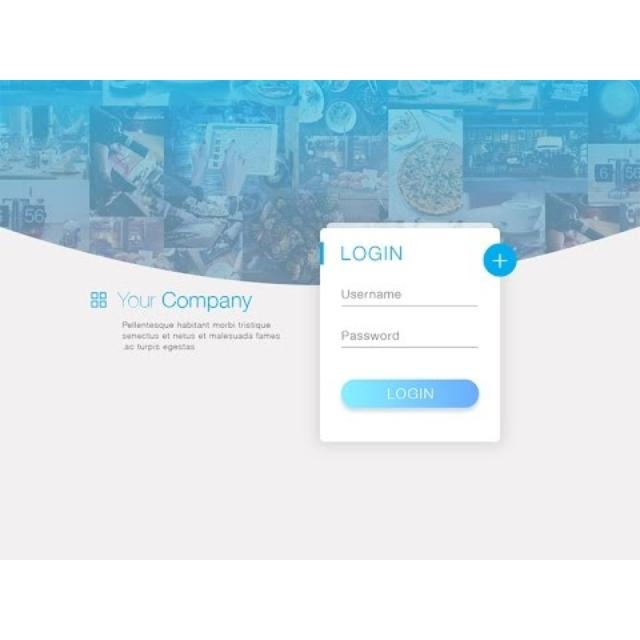QLabel: (114, 317, 284, 355), (334, 240, 410, 268), (382, 384, 436, 402)
VBtn: (340, 378, 480, 410)
VCard: (316, 220, 504, 448)
VIcon: (482, 240, 520, 278)
VImg: (85, 288, 258, 316)
VTextField: (336, 325, 482, 355), (335, 284, 485, 312)
